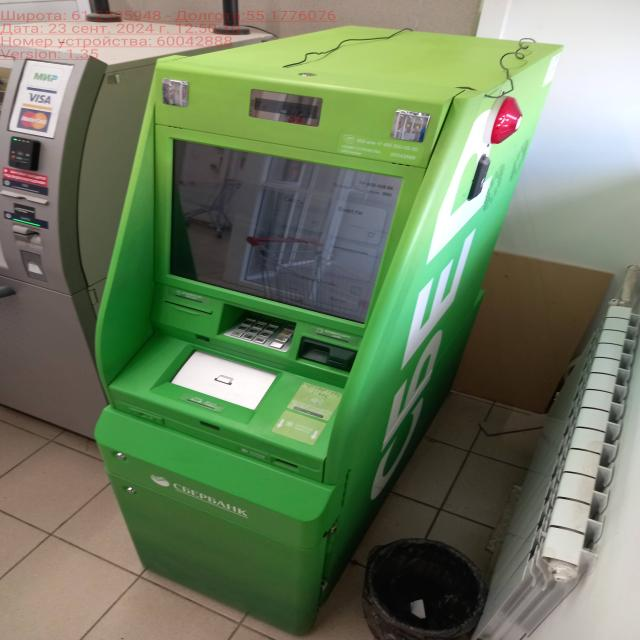bank: (100, 27, 569, 640)
